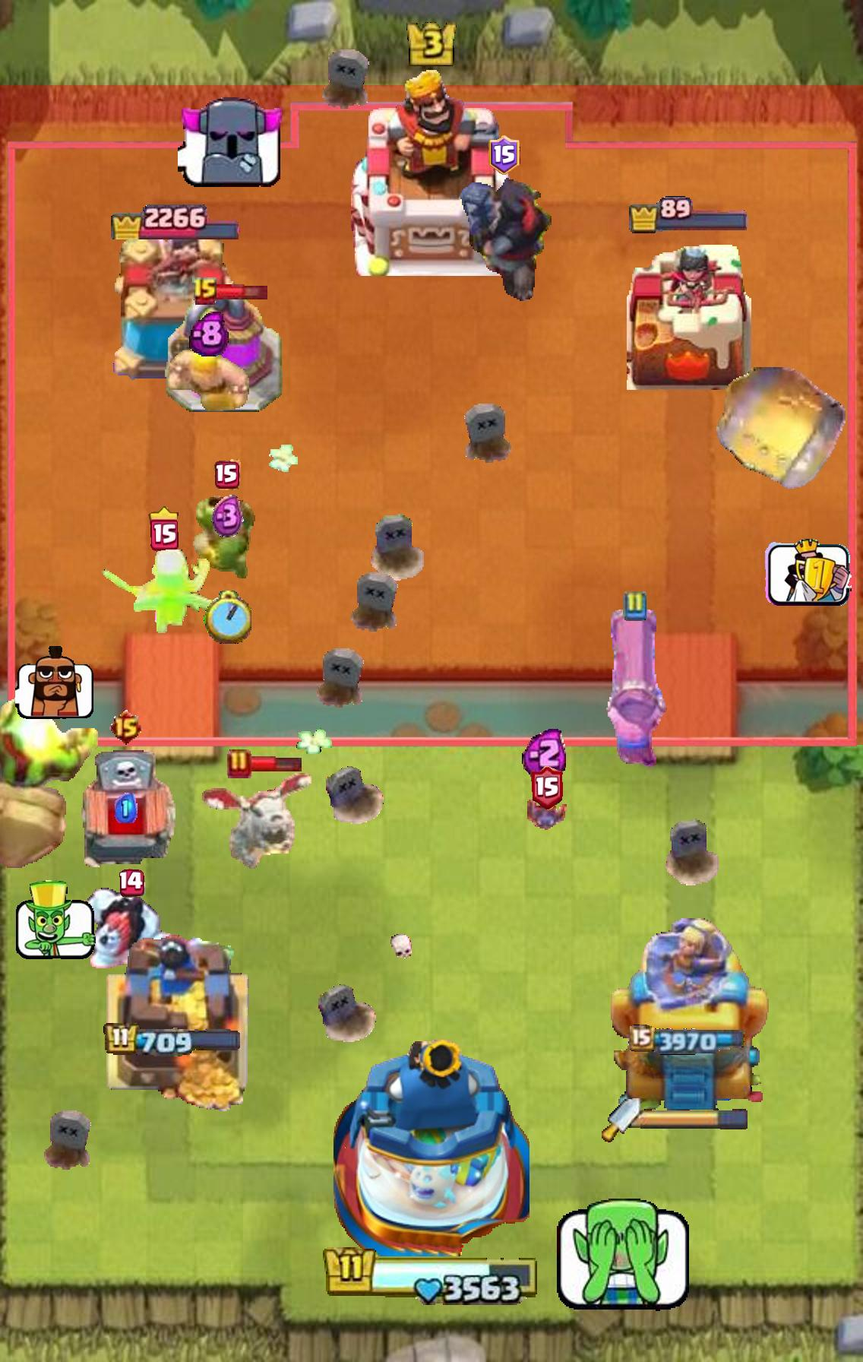elixir: (522, 725, 571, 779), (189, 310, 229, 356), (212, 495, 244, 539), (115, 793, 138, 823)
